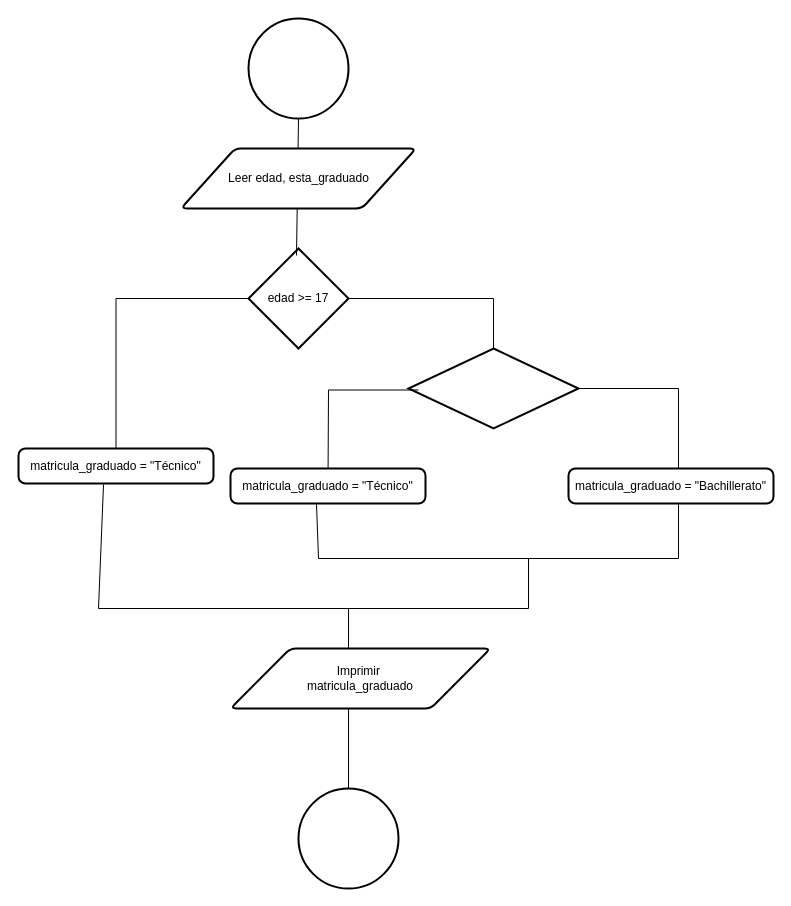
Some shapes in this 791 by 906 pixel diagram are drawn without their labels. The shapes that lost their labels are listed below. From the top down, each one's box as (x1, y1, x2, y2) in pixels, then its label:
(247, 17, 349, 119): Inicio
(407, 347, 579, 429): esta_graduado == "s"
(297, 787, 399, 889): Fin
